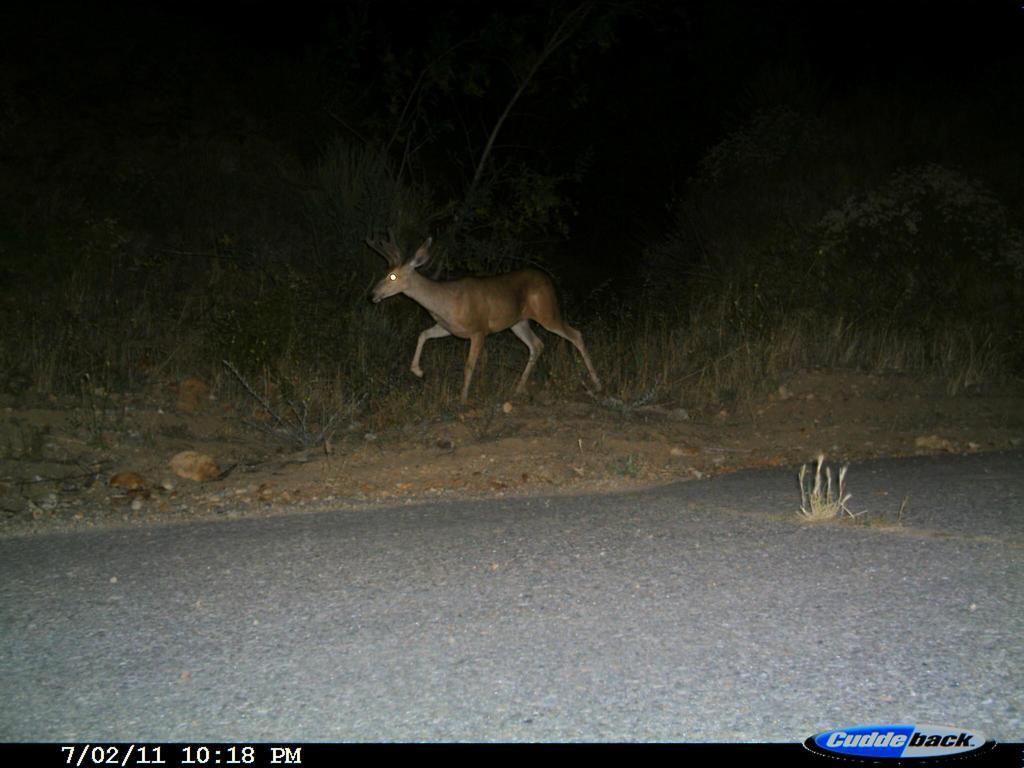deer: (363, 227, 610, 413)
